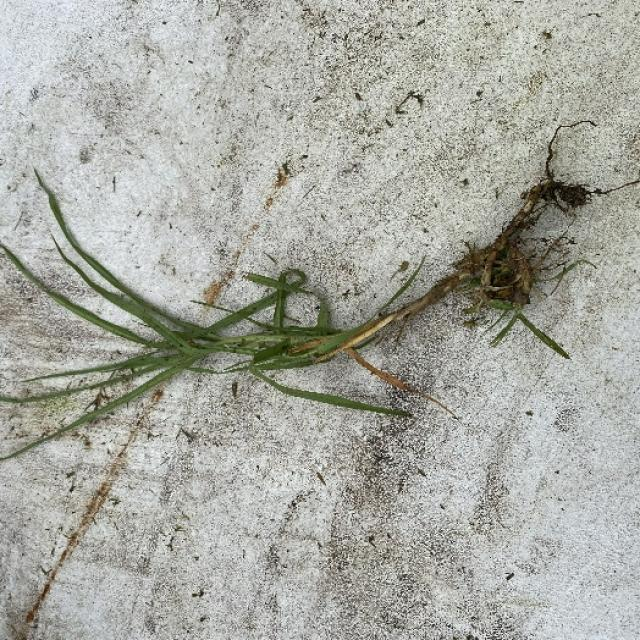organik: (13, 150, 640, 446)
